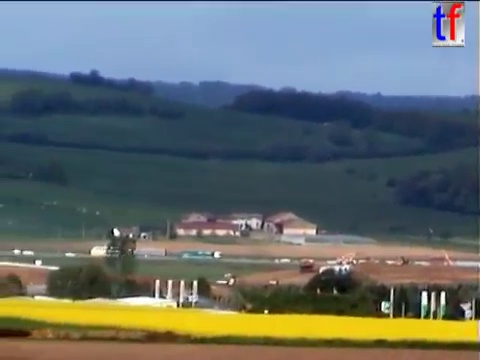truck: (297, 257, 316, 274)
